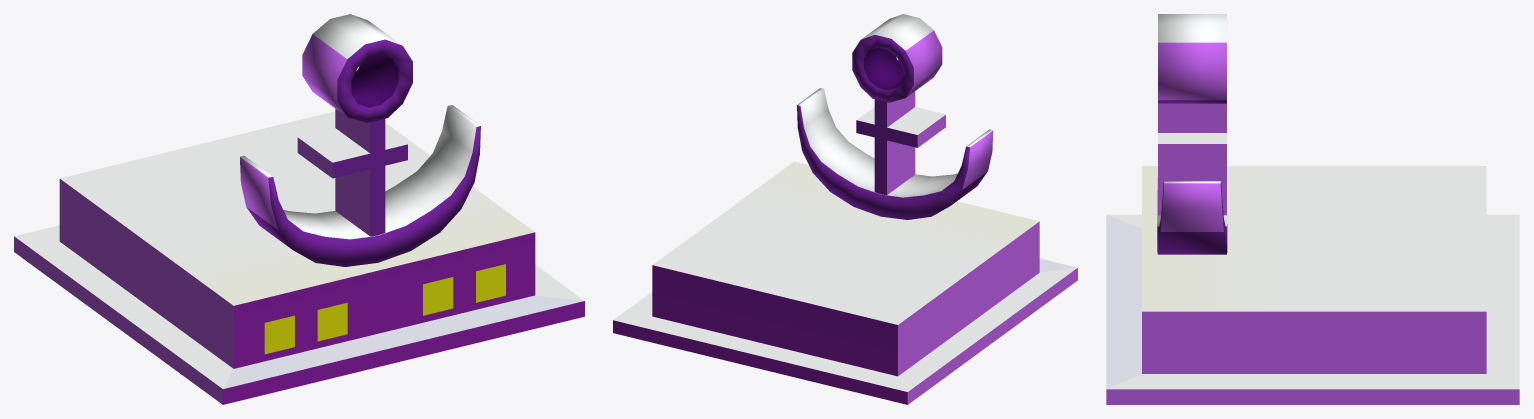
The model's file is Port.PurpleLightning.Snow.glb.
3 renders of one model, left to right at view 1: azimuth 30°, elevation 25°; view 2: azimuth 150°, elevation 25°; view 3: azimuth 270°, elevation 25°, orthographic. The views are drawn at different scales.
Visible parts, largest first — view 1: Port.PurpleLightning.Snow; view 2: Port.PurpleLightning.Snow; view 3: Port.PurpleLightning.Snow.
Part boxes in pixels (box(x1,y1,x2,y2)): Port.PurpleLightning.Snow: box(14, 14, 584, 404); Port.PurpleLightning.Snow: box(613, 14, 1077, 404); Port.PurpleLightning.Snow: box(1106, 14, 1519, 404).
Size of the model in its own units: 2.4 by 1.9 by 2.4.
2 materials, 1 textured.
